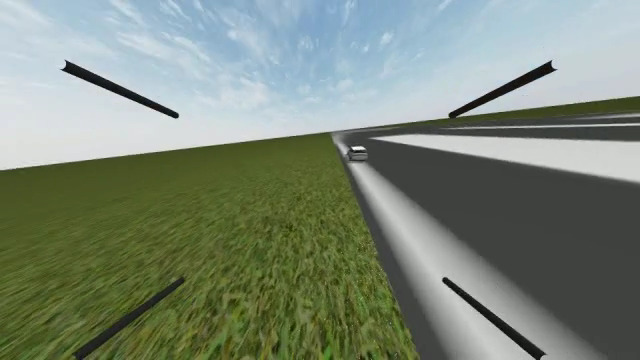Car: (347, 146, 367, 160)
